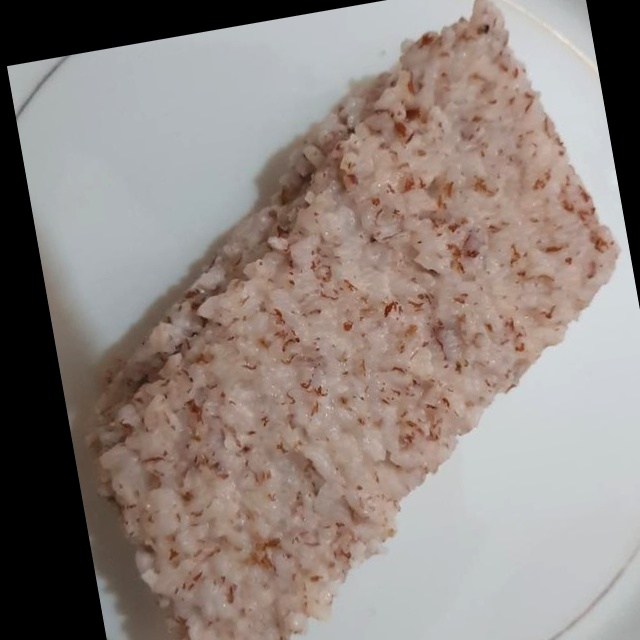Milk Rice: (24, 0, 640, 640)
